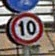limite 10: (9, 12, 43, 44)
